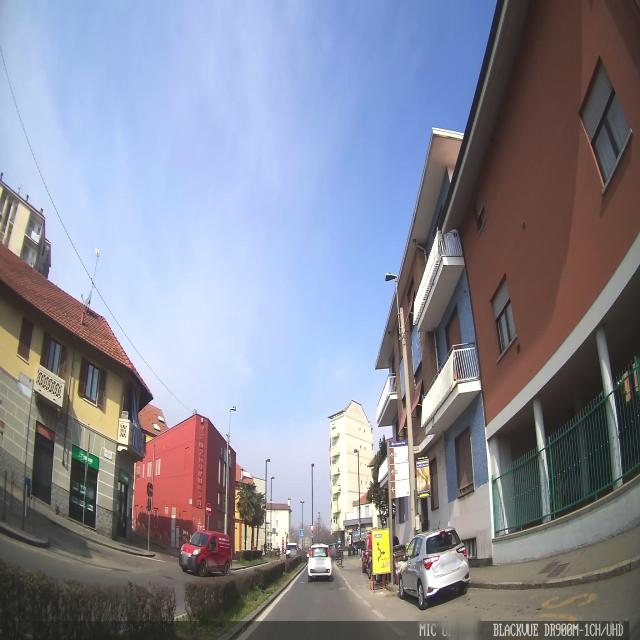car: (397, 526, 470, 610), (179, 529, 232, 577), (367, 529, 392, 589), (307, 543, 333, 583), (285, 542, 299, 561)
